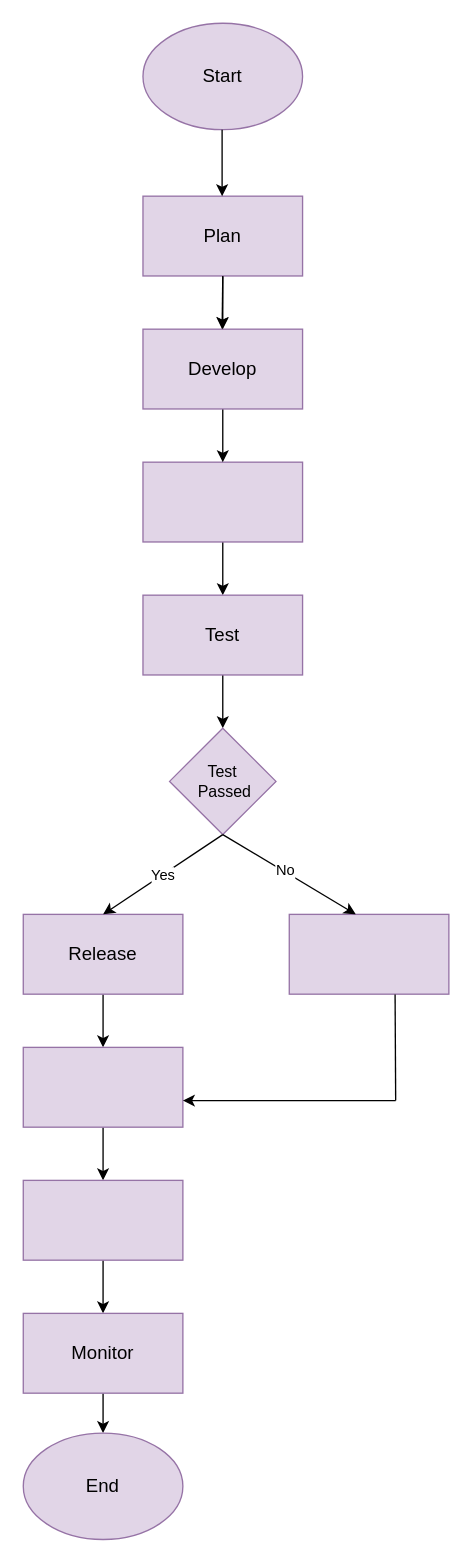
Image size: 472x1563. Some labels were removed from this diagram. Here are the shapes that lost their labels. From the top down, the centre of each, then its label:
point (222, 501): Build
point (368, 953): Fix & Commit
point (102, 1086): Deploy
point (102, 1219): Operate
